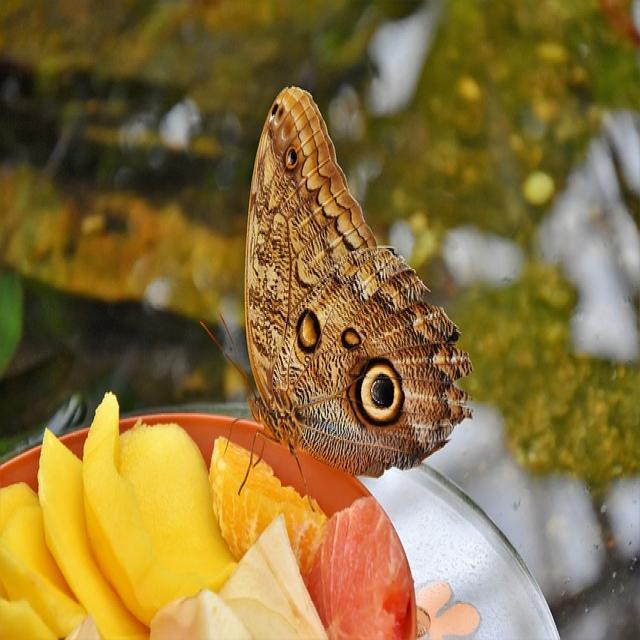butterfly: (243, 87, 472, 479)
